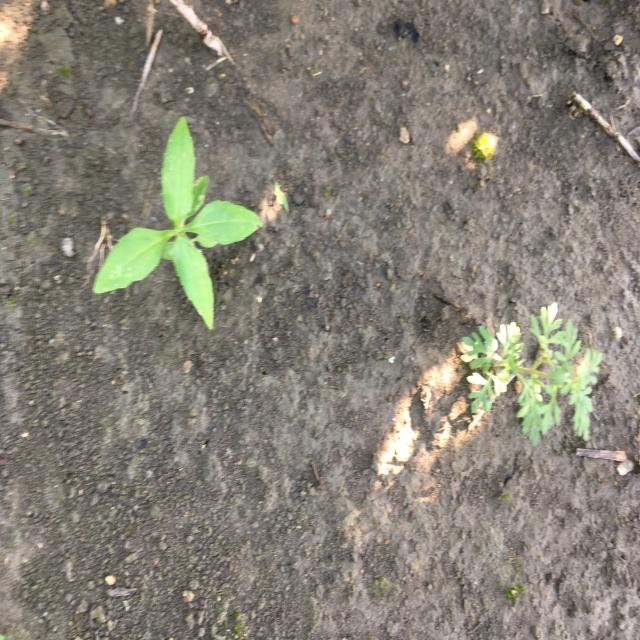Eclipta: (92, 116, 266, 330)
Ragweed: (458, 302, 606, 448)
